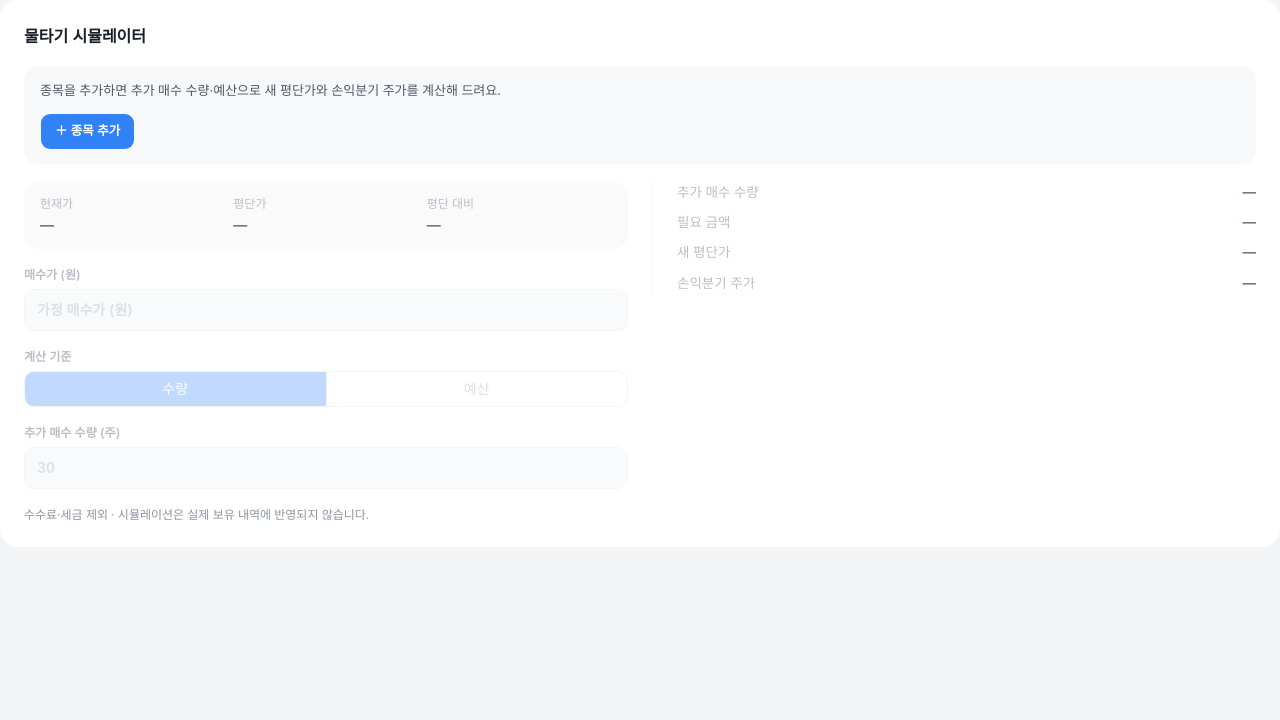
it: AveragingPanel › 종목이 없으면 비활성 미리보기와 종목 추가 버튼을 보여준다
expect the text "종목을 추가하면 추가 매수 수량·예산으로 새 평단가와 손익분기 주가를 계산해 드려요." is shown: met, box [40, 80, 501, 101]
Click the button "＋ 종목 추가" at coordinates (88, 132), box [40, 113, 135, 150]
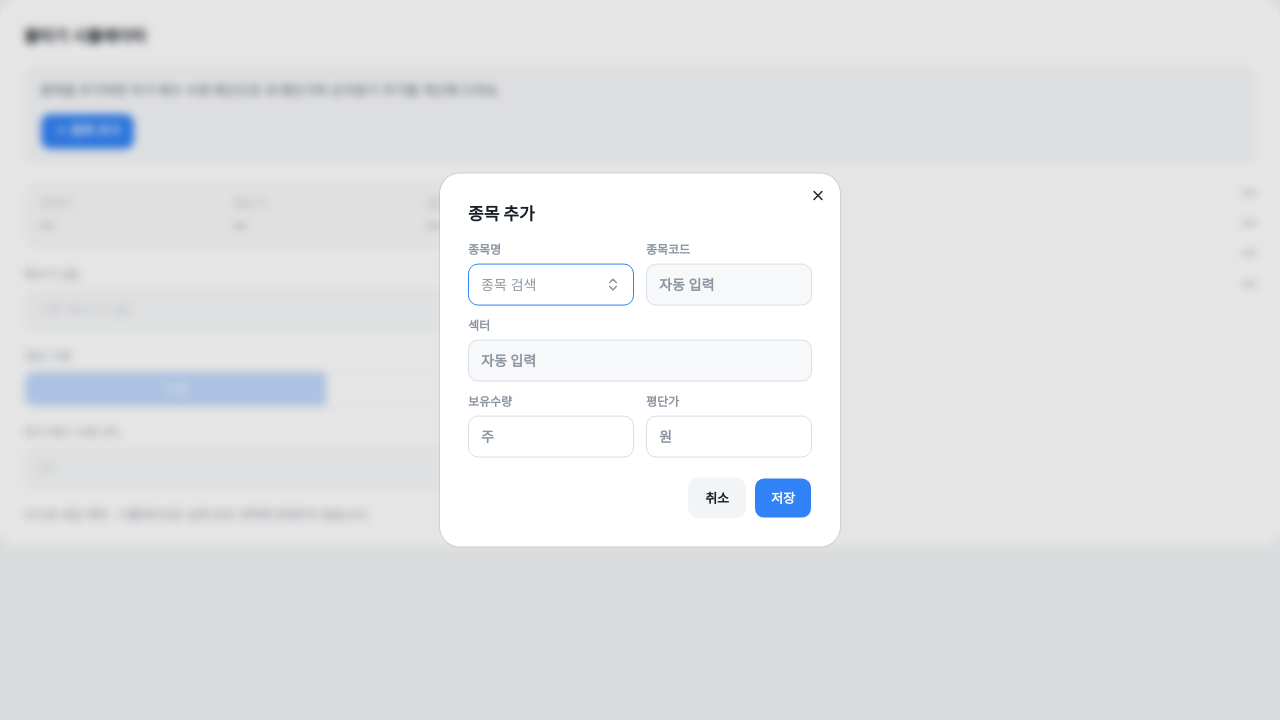
expect the dialog is shown: met, box [440, 174, 840, 546]
